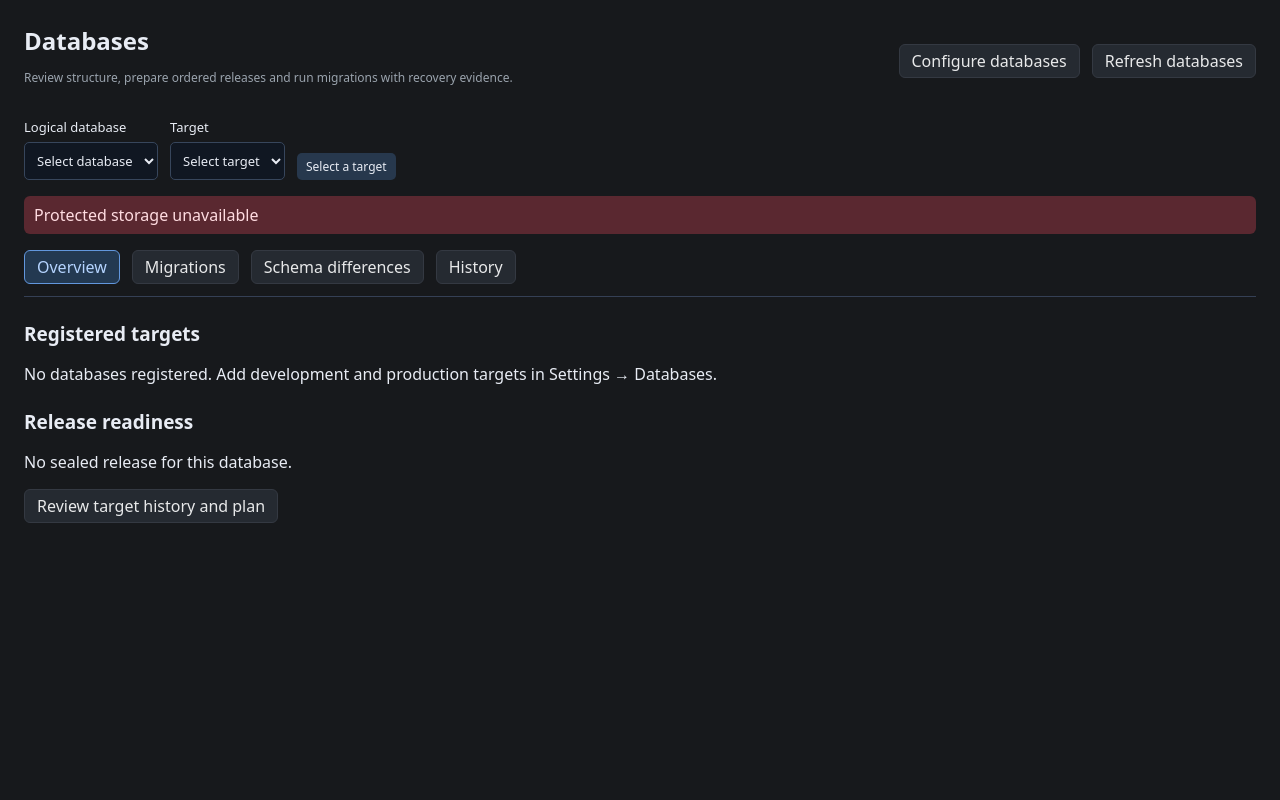
Test case: Database view › contains setup failures and leaves section navigation usable
The width and height of the screenshot is (1280, 800).
Expected: the message reads "Protected storage unavailable", [34,204,258,226]
Step 1. Click the button "History" → (476, 267), box [436,250,516,284]
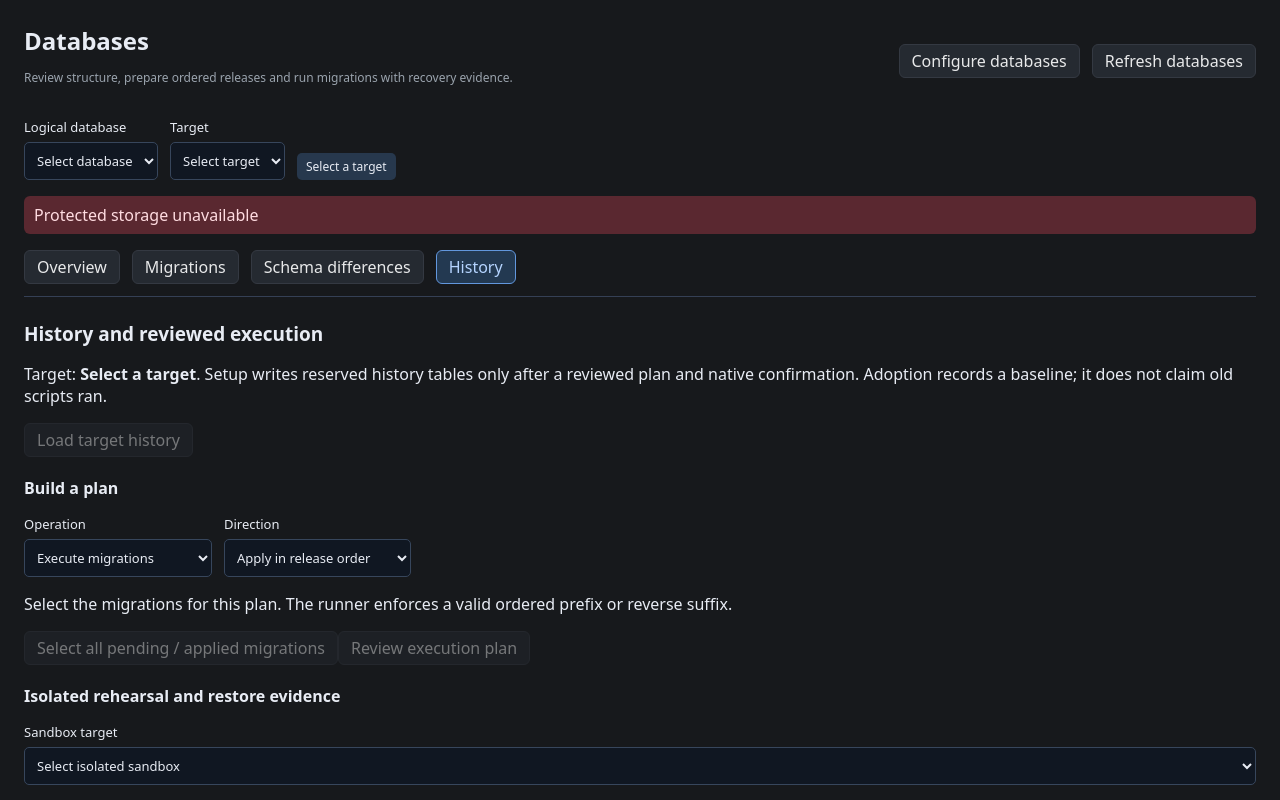
Expected: the button "Review execution plan" is shown, [338,631,530,665]
